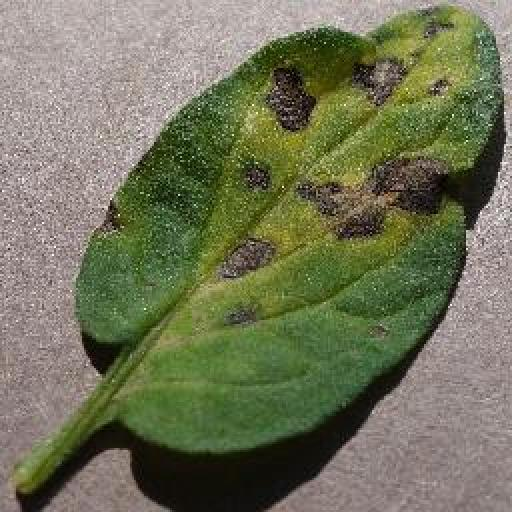Early Blight: (78, 6, 504, 454)
